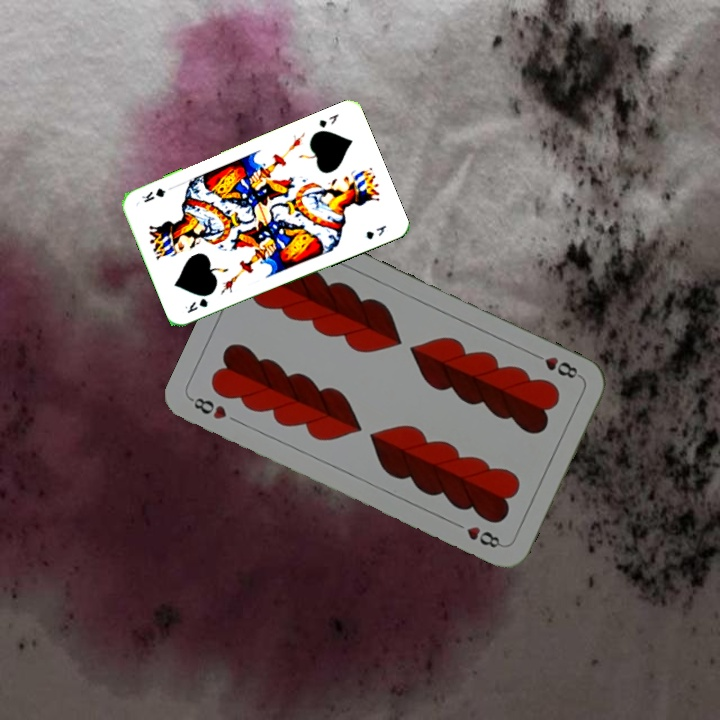GK: (181, 294, 210, 316), (315, 110, 341, 130)
H8: (528, 349, 584, 382), (187, 393, 230, 422)
